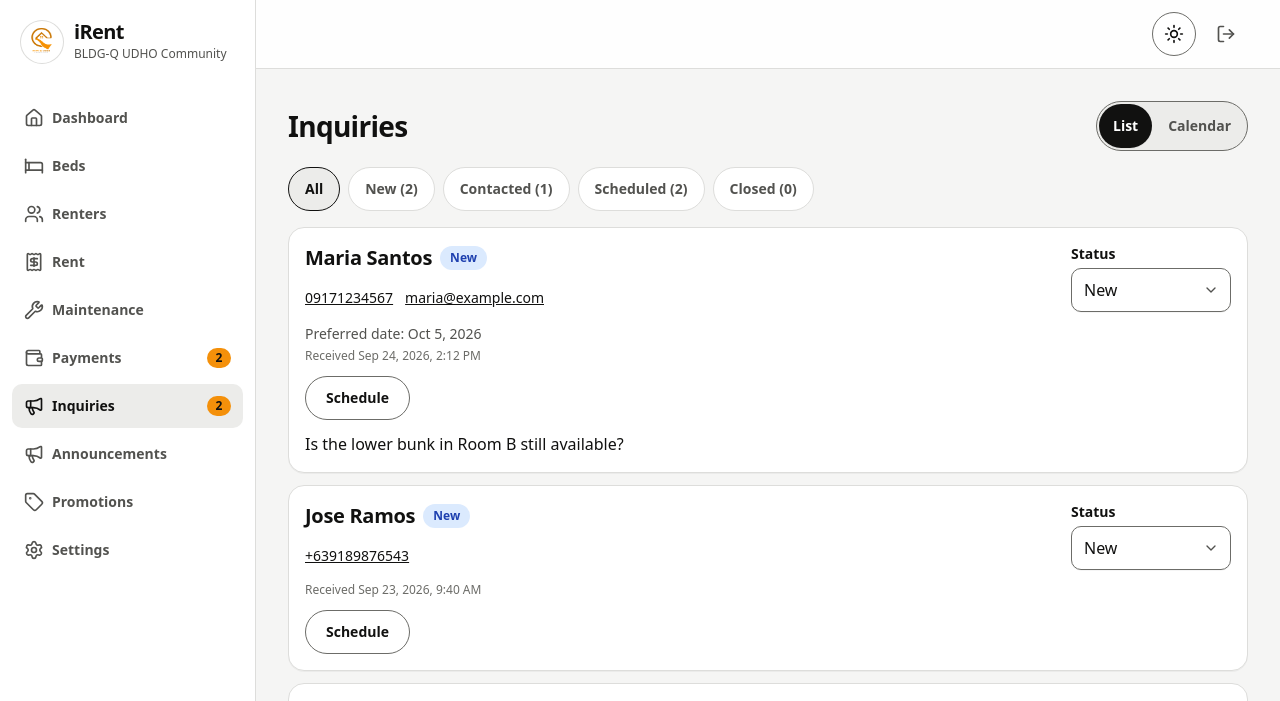
Test case: AdminInquiriesPage (F20, R40, SC-41) › rolls the status back when the save fails
This screenshot has width=1280, height=701.
Expected: the heading "Maria Santos" is shown, [305,244,432,272]
Select "Closed" in the dropdown labelled "Status" in the row of "maria@example.com" at (1151, 290), box [1071,268,1231,312]
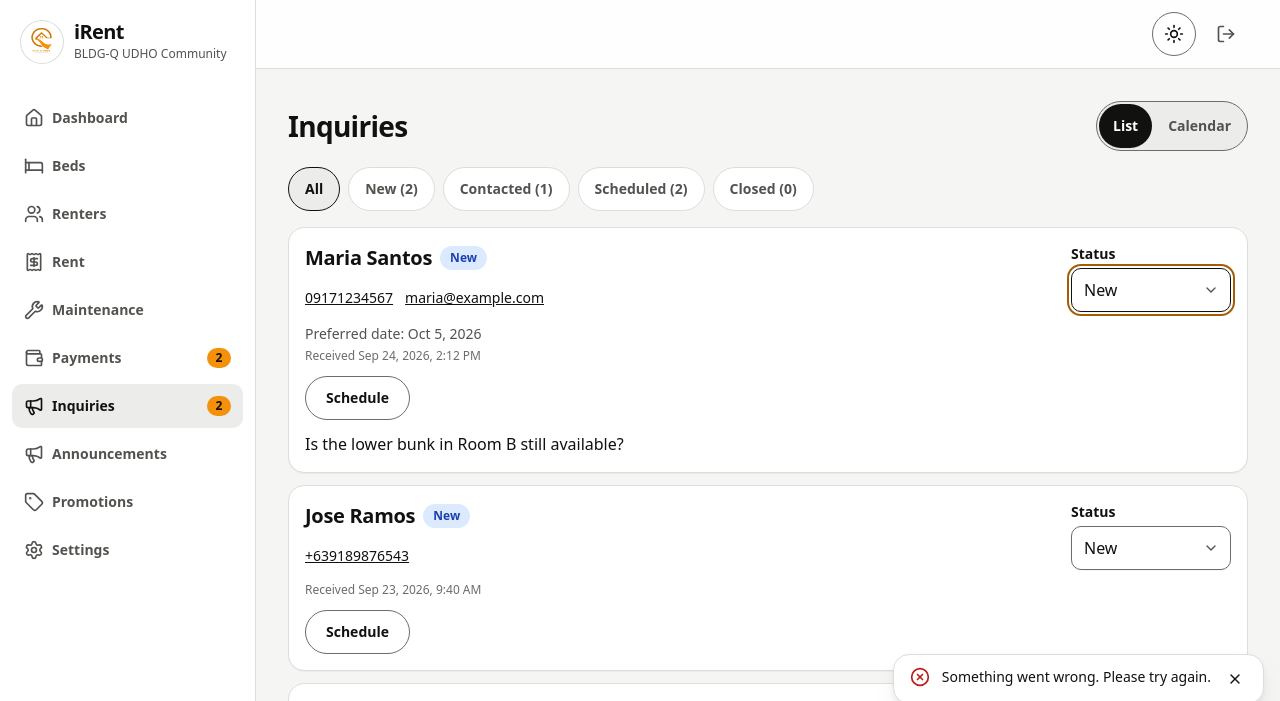
Result: the text "Something went wrong. Please try again." is shown at [942,667,1211,687]
